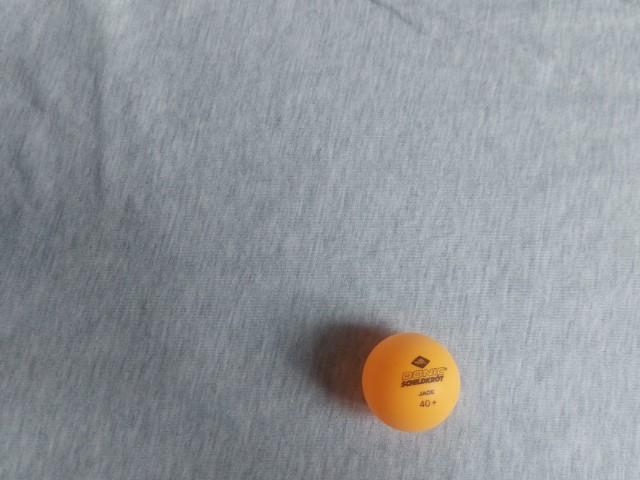oball: (170, 42, 286, 154)
